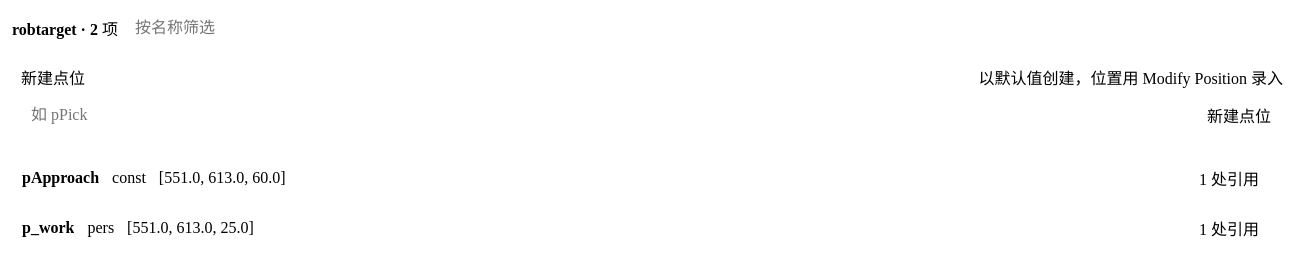
Test: ProgramDataTargetList — ABB 式 robtarget 列表 › 筛选框过滤点位列表
In the search field named "按名称筛选点位": (709, 28) [126, 12, 1292, 44], type "work"
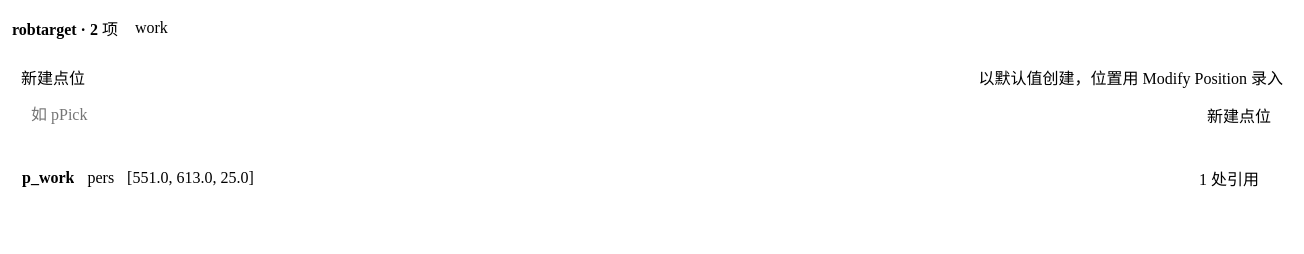
Check: the text "p_work" is shown, box [22, 169, 74, 187]
Check: the text "pApproach" is gone
